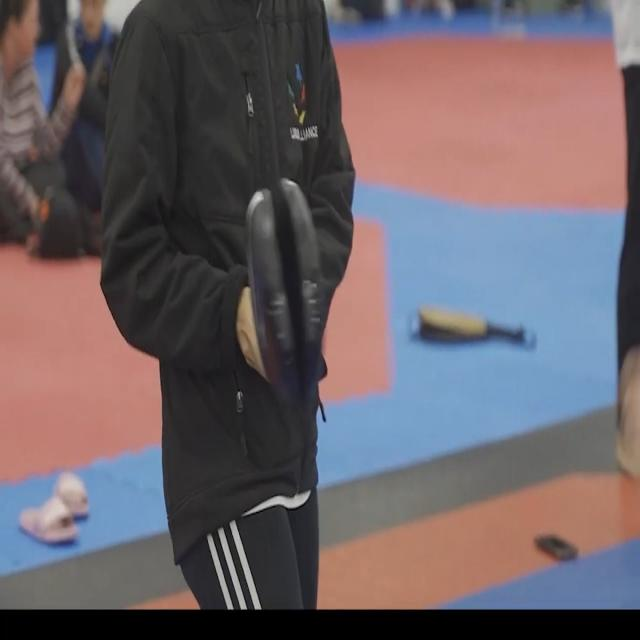paddle: (244, 172, 328, 412)
